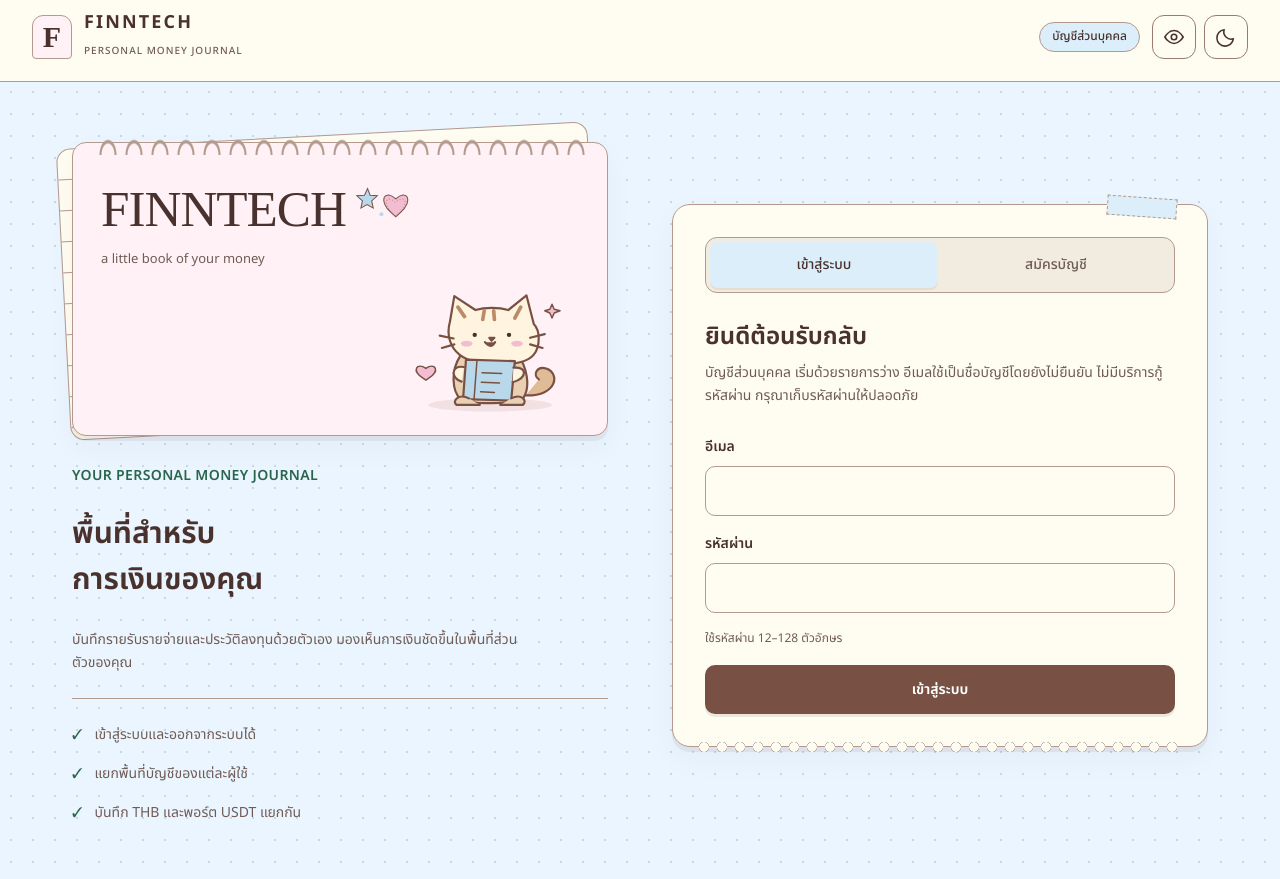
Test: public password mode honestly discloses absent verification/recovery and preserves signup reconciliation
Expected: the text "อีเมลใช้เป็นชื่อบัญชีโดยยังไม่ยืนยัน" is shown, x1=705 y1=362 x2=1163 y2=406
Click the button "สมัครบัญชี": (1056, 264) x1=942 y1=242 x2=1170 y2=288
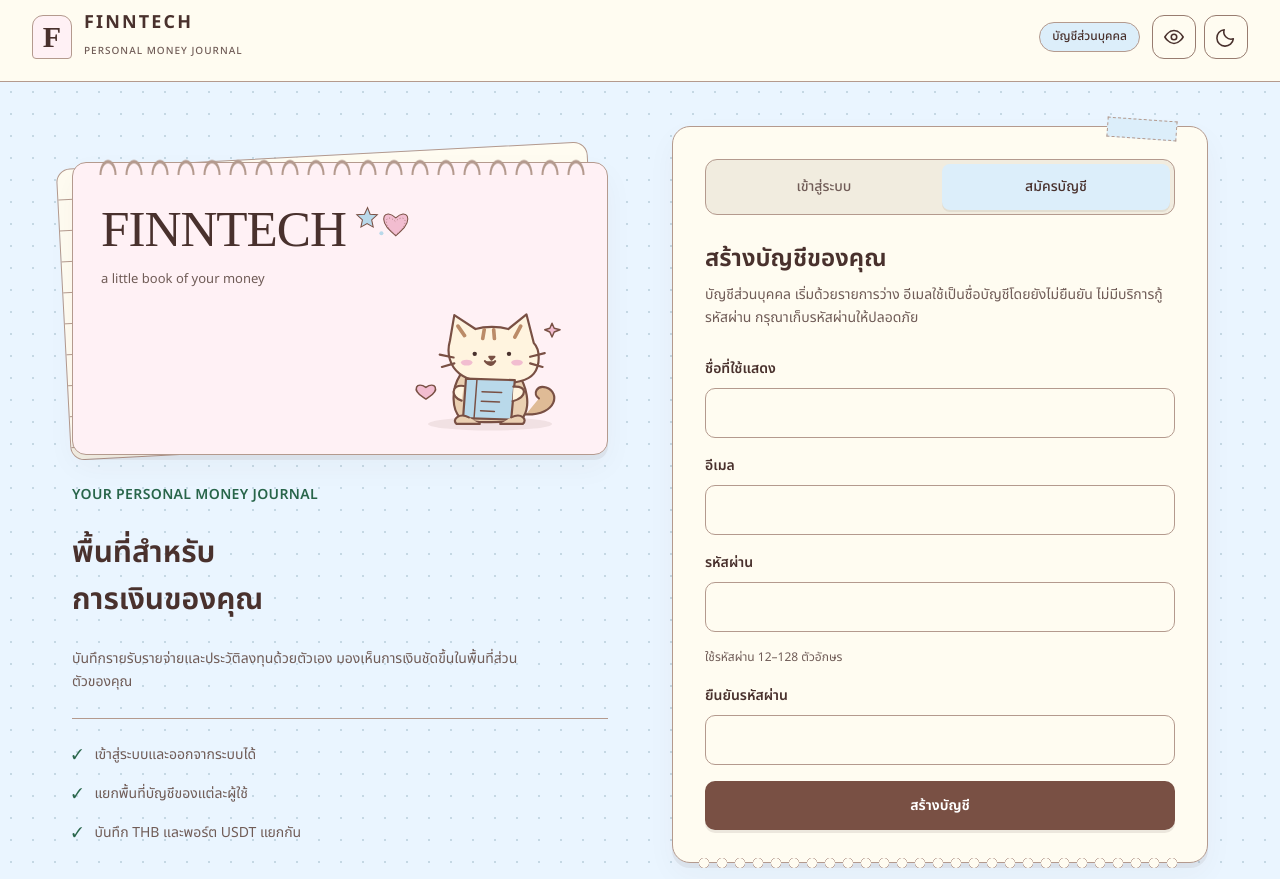
In the field labelled "ชื่อที่ใช้แสดง": (940, 413) x1=705 y1=388 x2=1175 y2=438, type "Student"
In the field labelled "อีเมล": (940, 510) x1=705 y1=485 x2=1175 y2=535, type "student@example.test"
In the password field labelled "รหัสผ่าน": (940, 608) x1=705 y1=582 x2=1175 y2=632, type "synthetic-long-password"
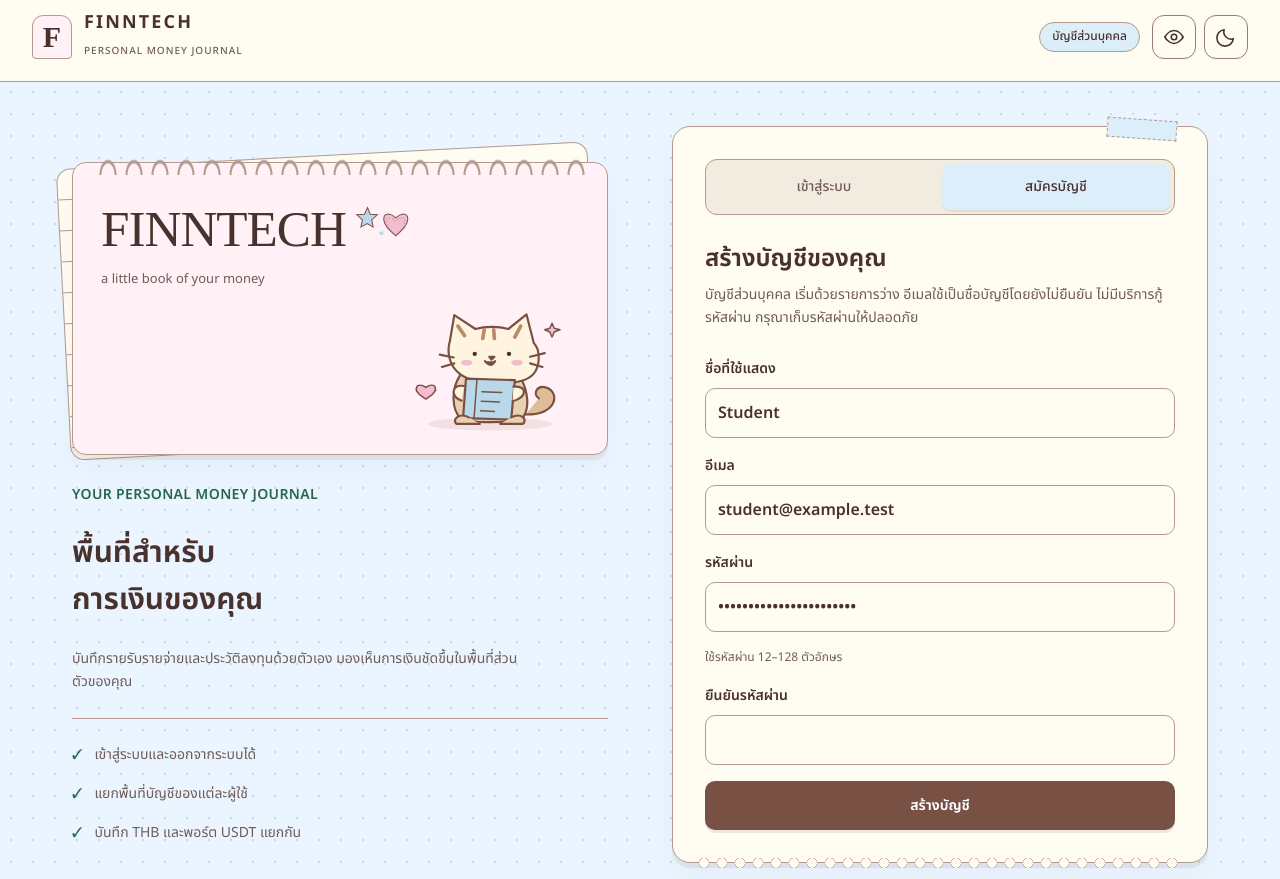
In the password field labelled "ยืนยันรหัสผ่าน": (940, 740) x1=705 y1=715 x2=1175 y2=765, type "synthetic-long-password"
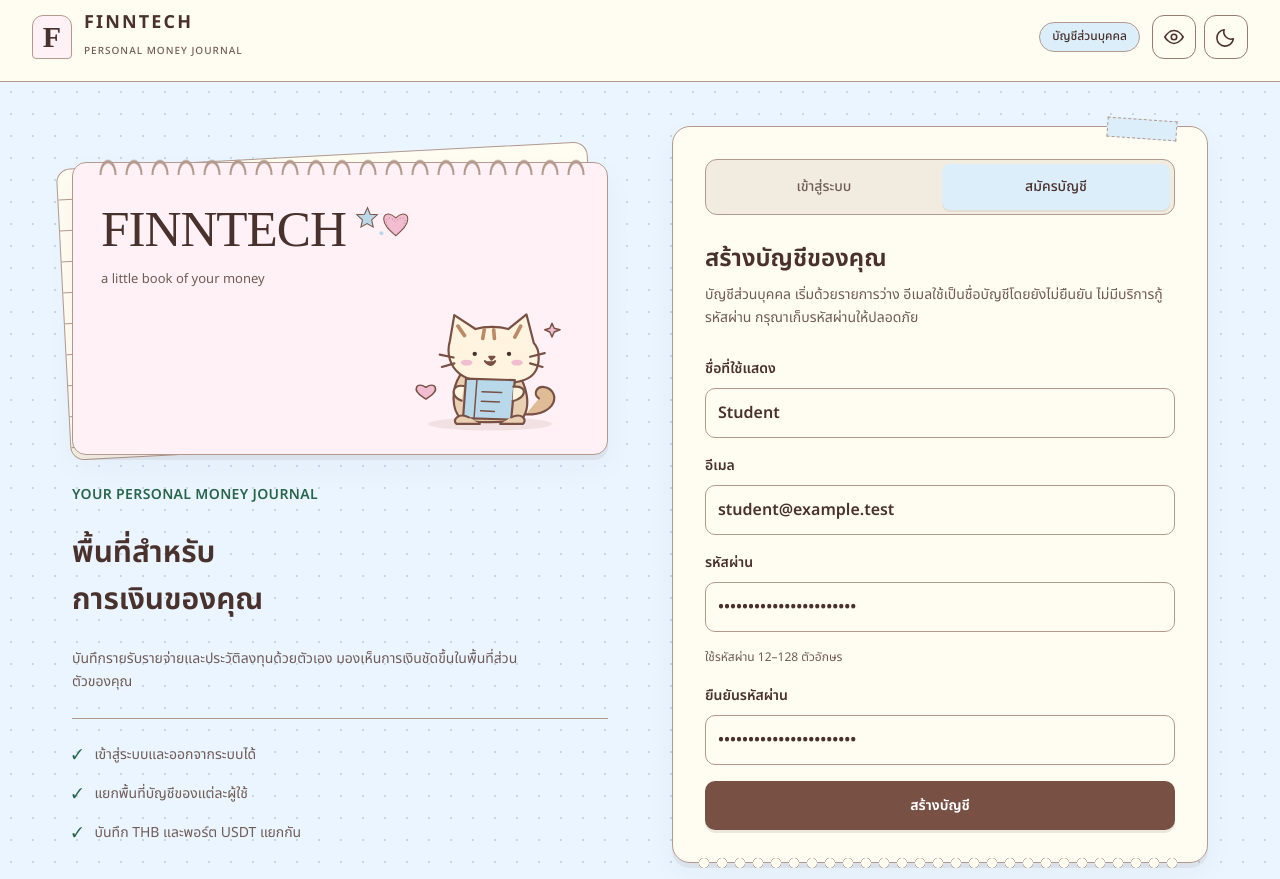
Submit the form named "ฟอร์มสมัครบัญชี", box x1=705 y1=357 x2=1175 y2=830
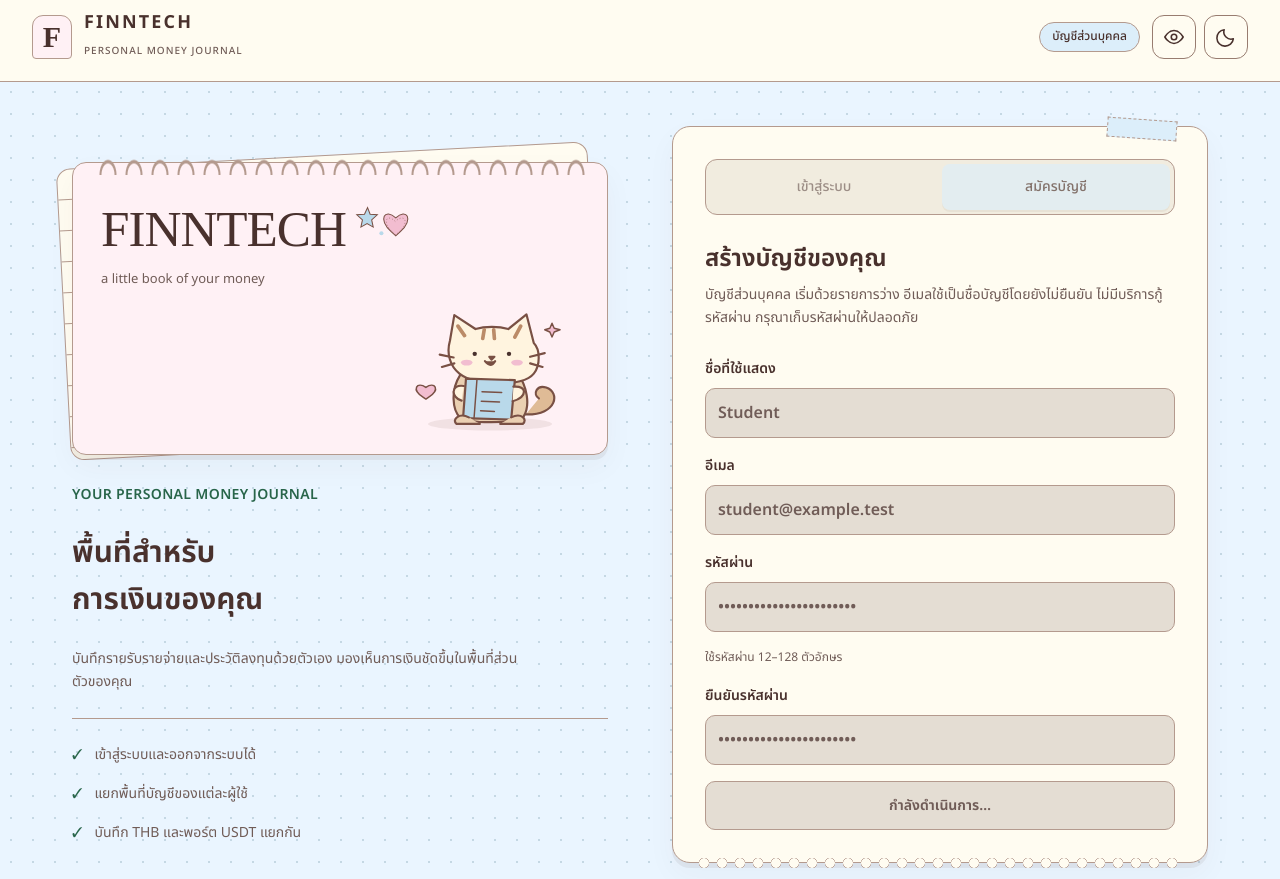
Submit the form named "ฟอร์มสมัครบัญชี", box x1=705 y1=357 x2=1175 y2=830
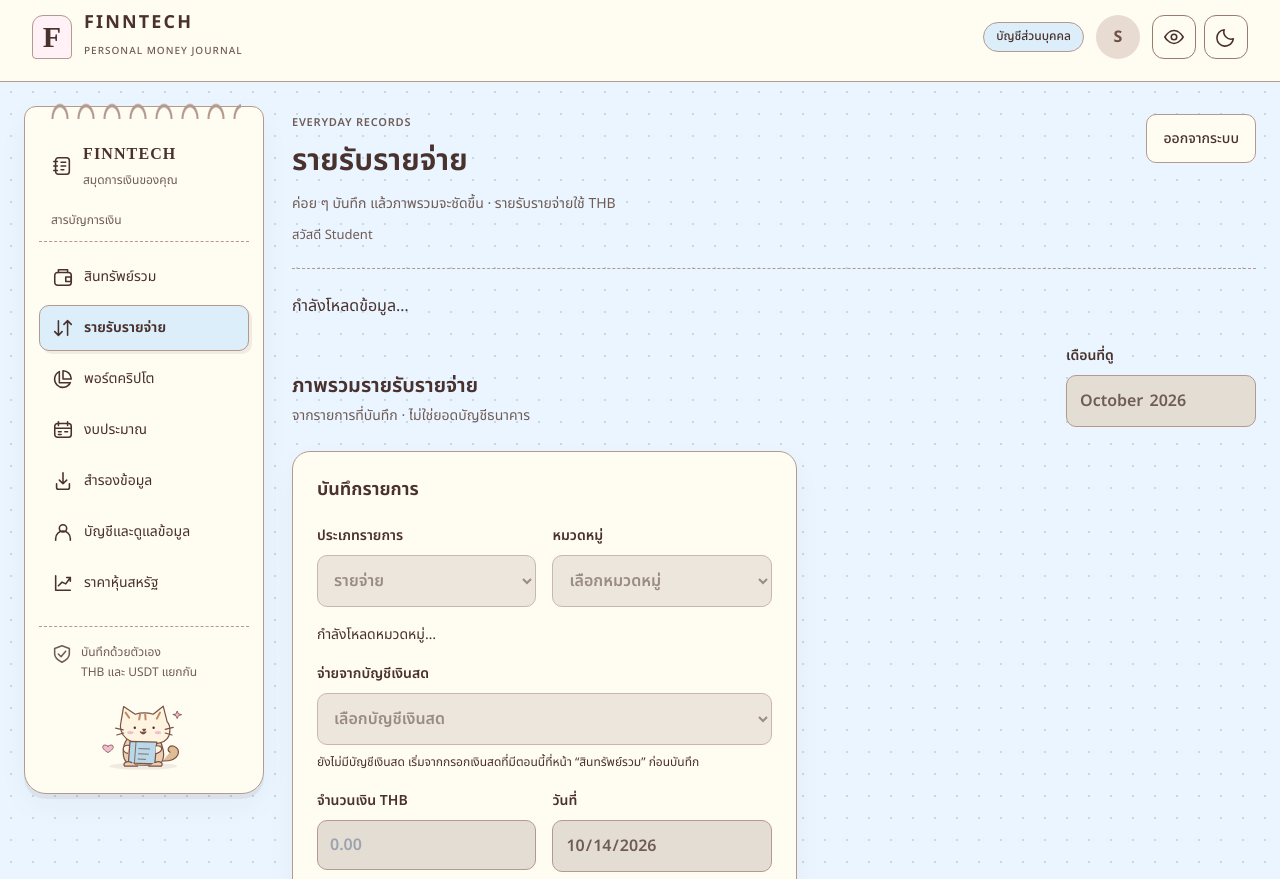
Expected: the text "สวัสดี Student" is shown, x1=292 y1=225 x2=373 y2=245
Click the button "บัญชีและดูแลข้อมูล": (144, 532) x1=39 y1=509 x2=249 y2=555
(page scrolled)
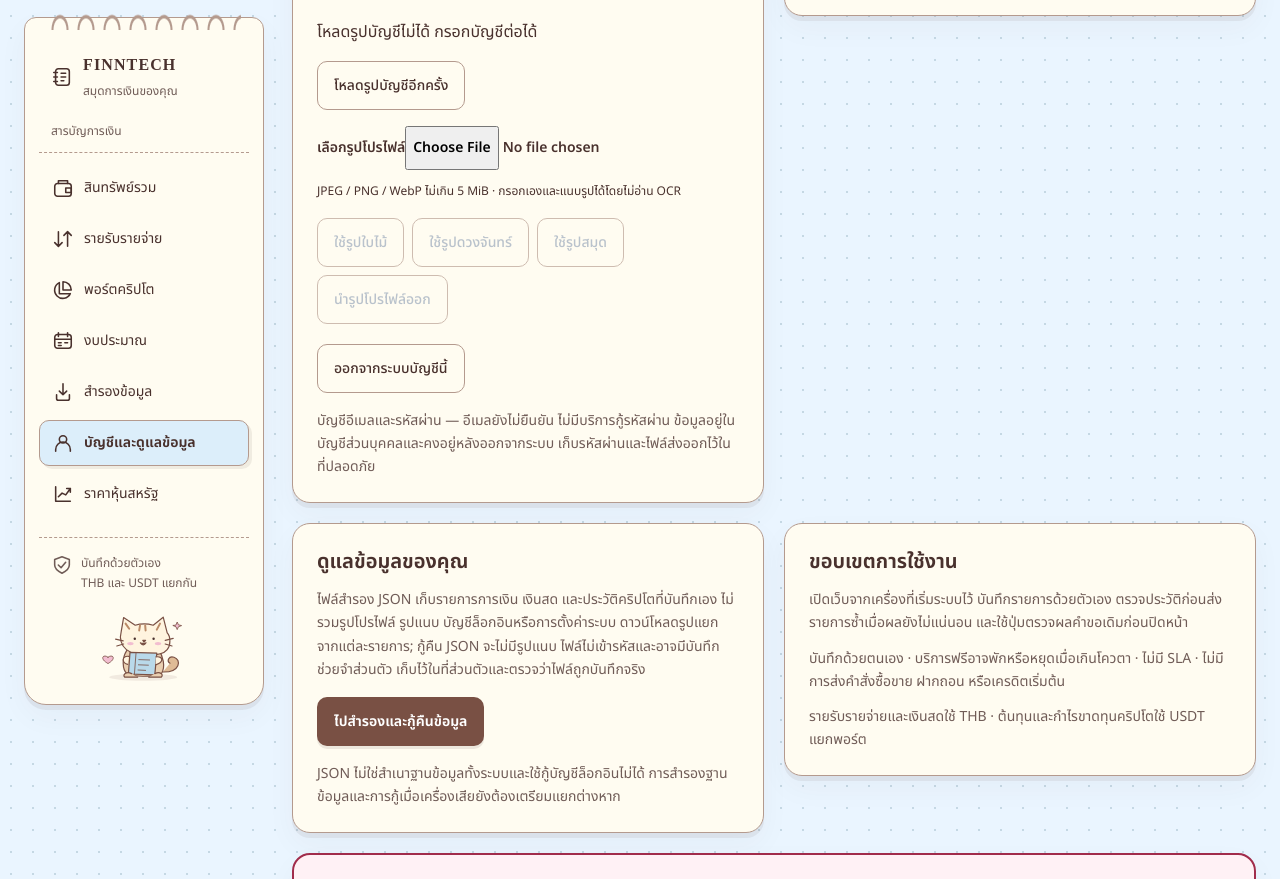
Expected: the text "บัญชีอีเมลและรหัสผ่าน — อีเมลยังไม่ยืนยัน" is shown, x1=317 y1=410 x2=735 y2=477
